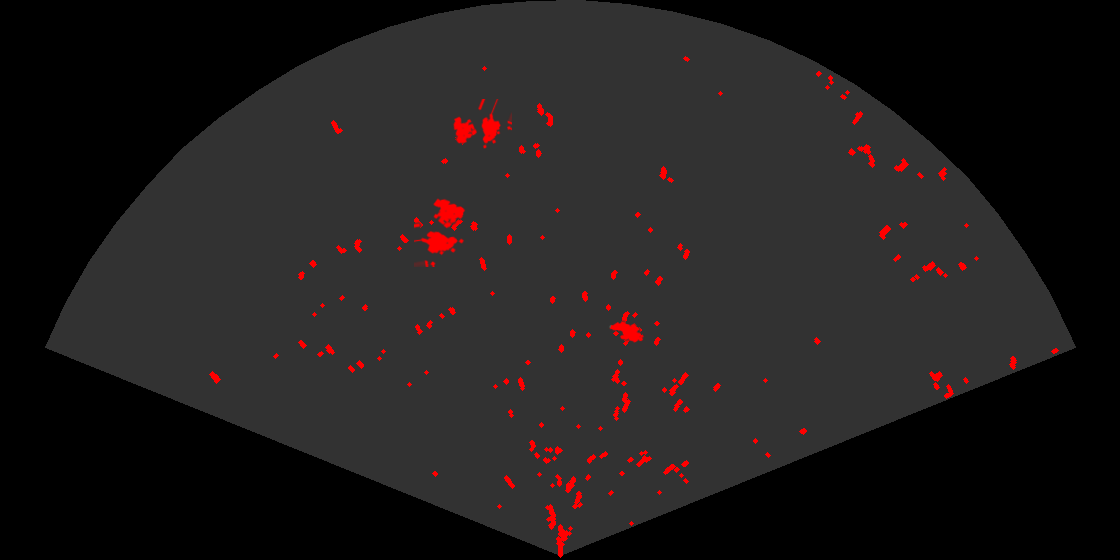AUV: (608, 320, 646, 344)
cage: (414, 197, 467, 267), (452, 99, 512, 150)
